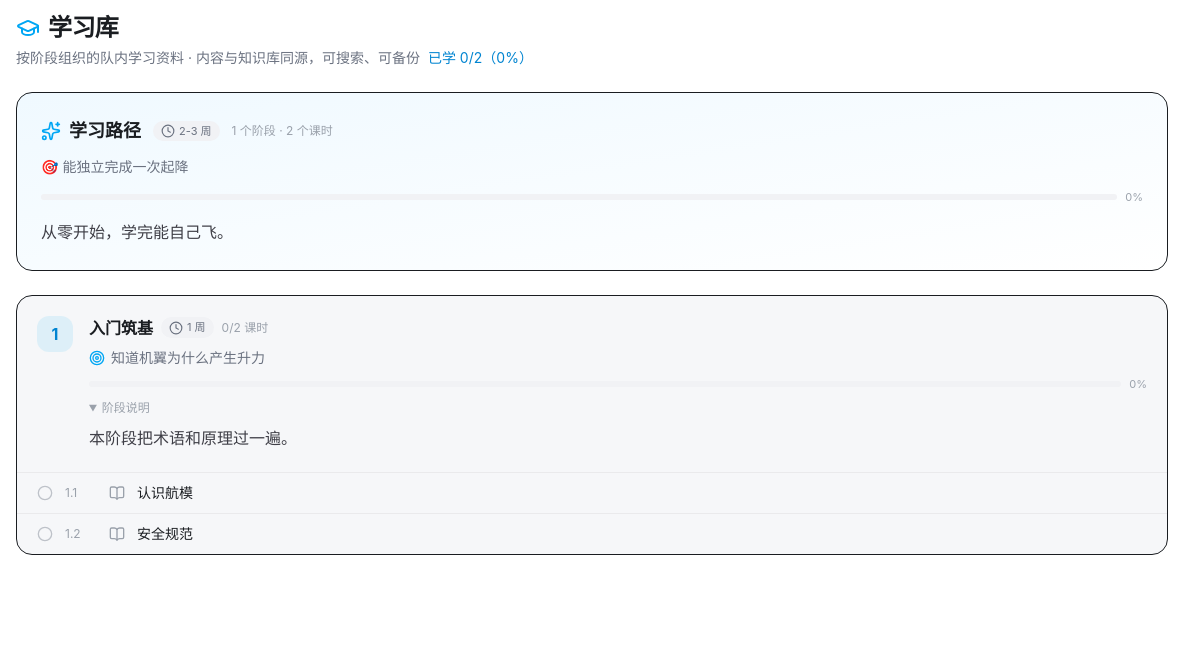
Test: 学习库页 › 下一课按学习路径顺序前进
Click the button "认识航模" at (165, 492), box x1=109 y1=483 x2=1147 y2=503
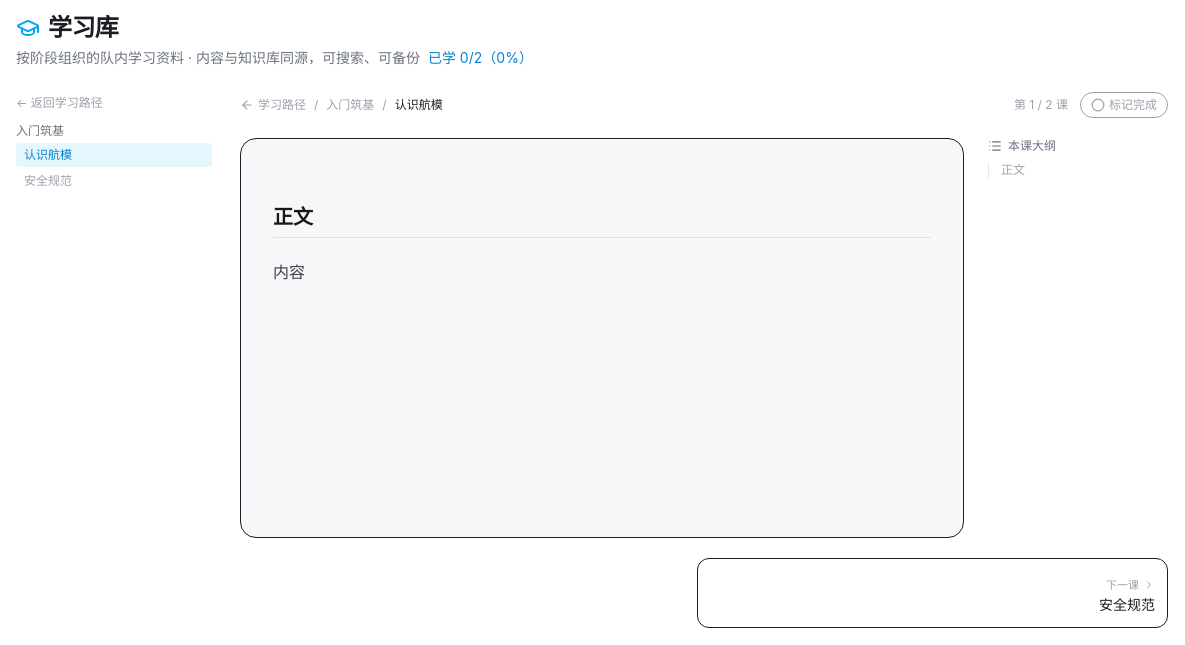
Click the button "下一课 安全规范" at (1122, 585), box x1=697 y1=558 x2=1168 y2=628
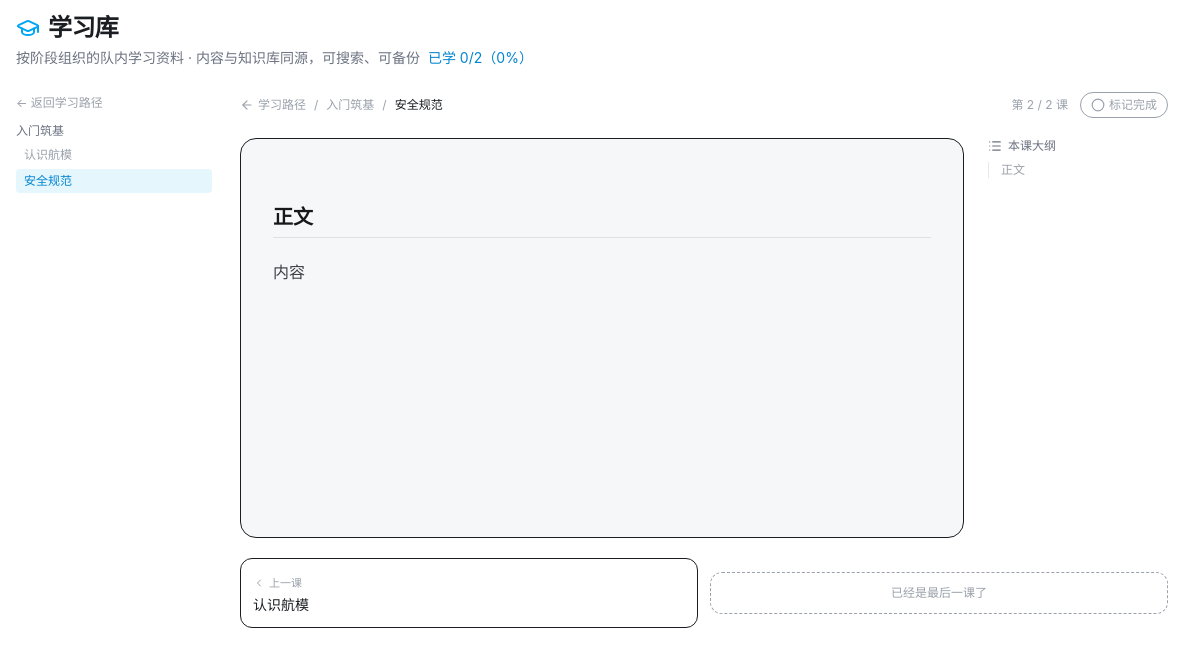
Expected: the text "第 2 / 2 课" is shown, x1=1012 y1=97 x2=1068 y2=113
